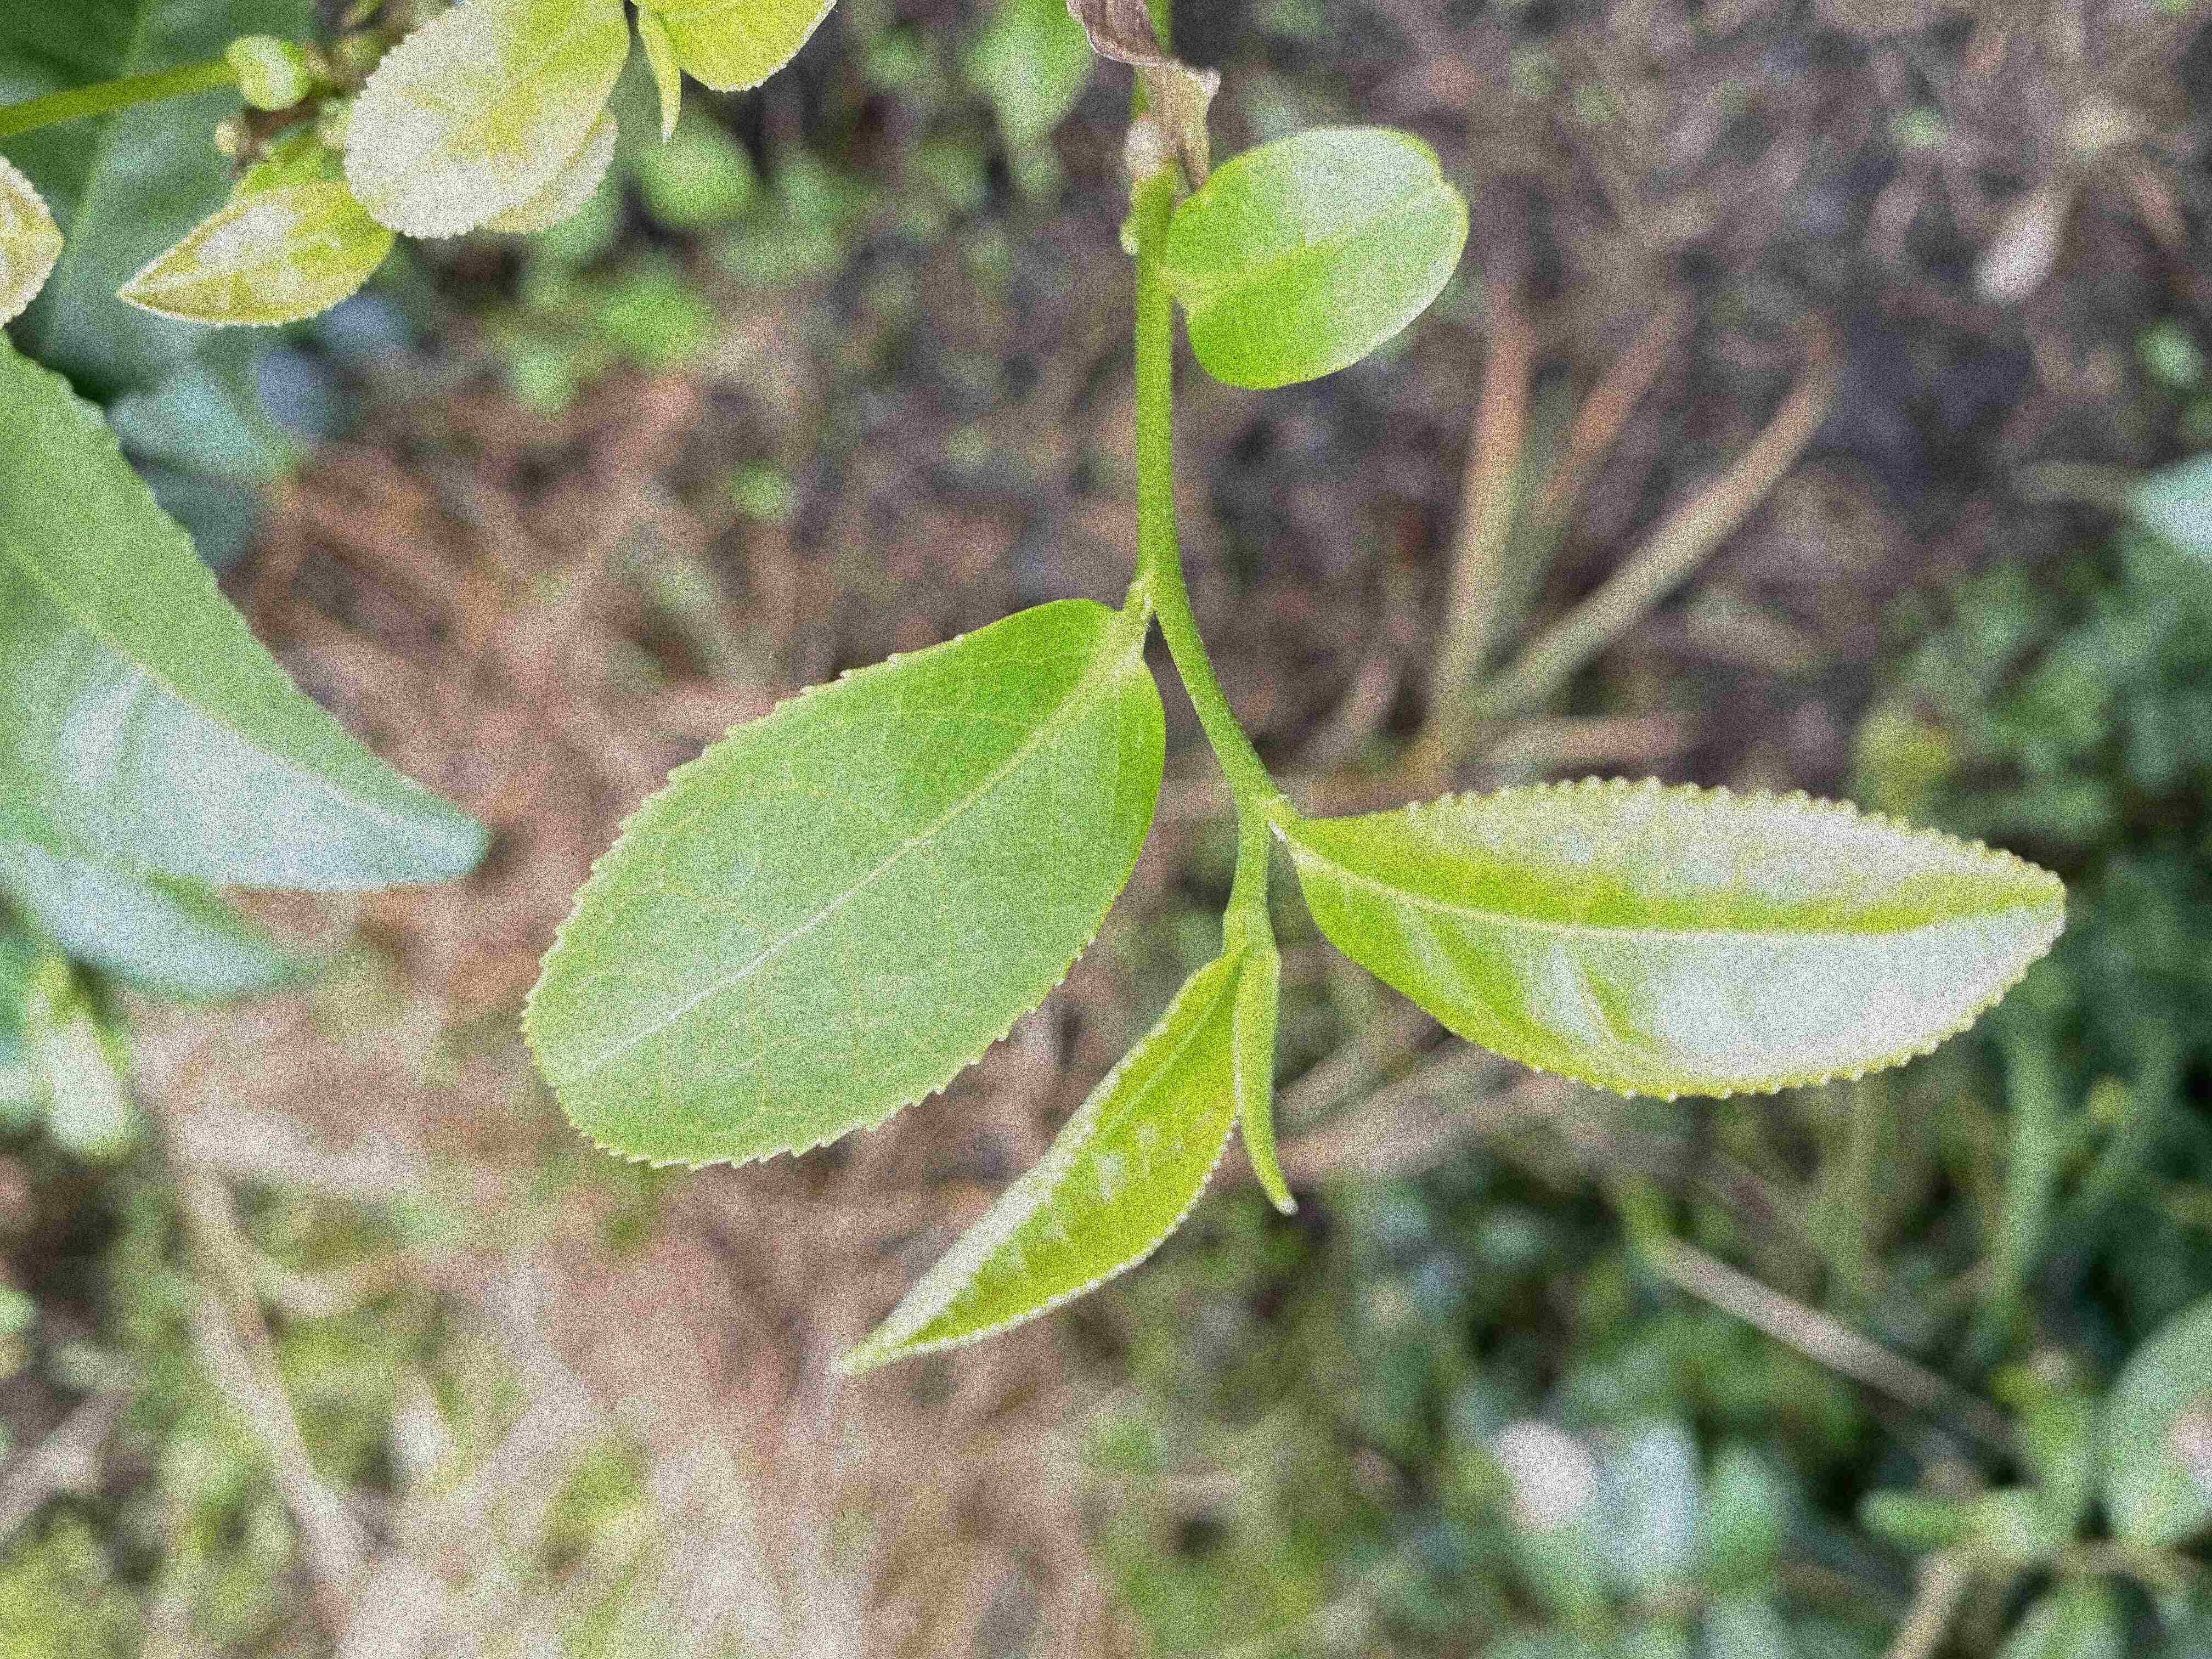healthy: (521, 592, 1167, 1169), (1292, 772, 2069, 1100), (833, 939, 1240, 1377), (1160, 122, 1467, 392), (341, 3, 631, 240), (117, 185, 394, 331)
